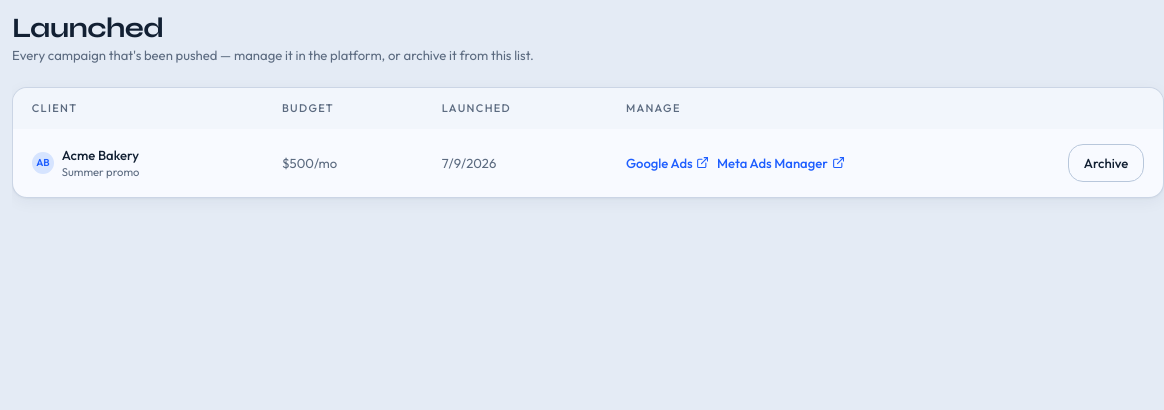
Test: LaunchedCampaignsPage › lists launched campaigns with platform manage links and archives a row
Expected: the text "Acme Bakery" is shown, [62,146,139,165]
Click the button "Archive".
click(1106, 163)  # box [1068,144,1144,182]
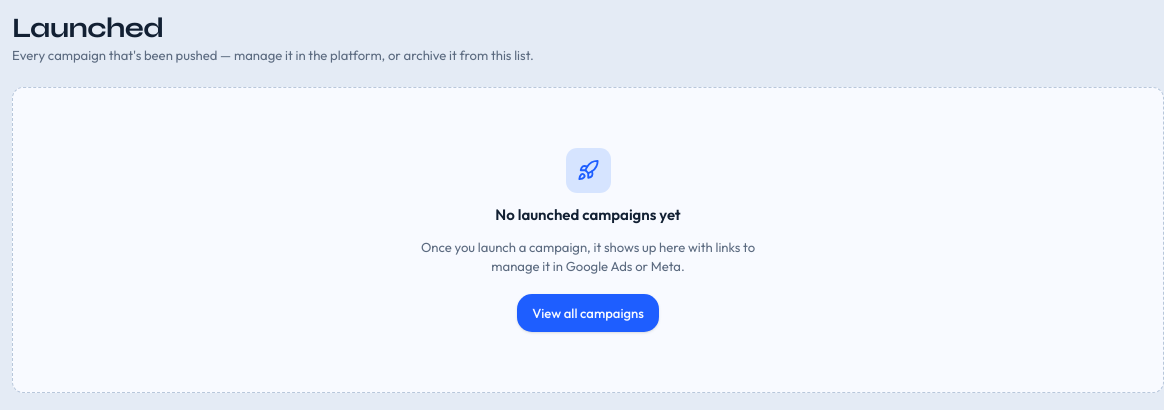
Now the link "Acme Bakery" is gone
